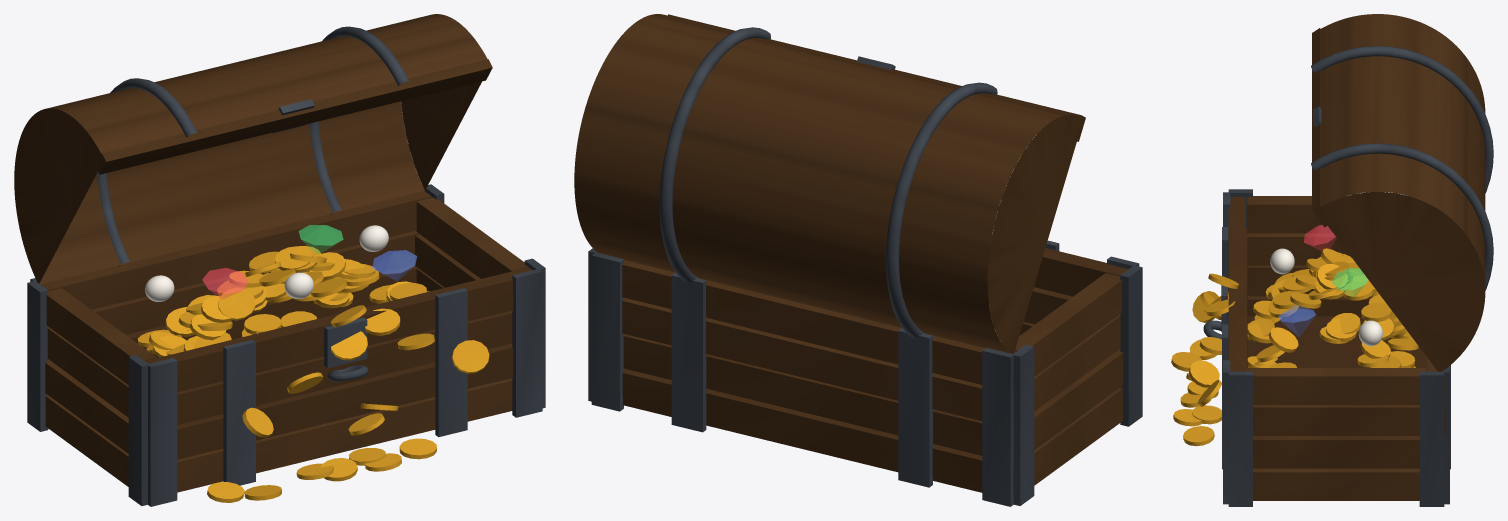
The model's file is treasure-chest.glb.
3 renders of one model, left to right at view 1: azimuth 30°, elevation 25°; view 2: azimuth 150°, elevation 25°; view 3: azimuth 270°, elevation 25°, orthographic. The views are drawn at different scales.
Parts seen in each view (by area): view 1: chest-lid, chest-body, chest-iron, coin-pile, chest-lid-iron, pearls, gem-ruby, gem-sapphire, gem-emerald; view 2: chest-lid, chest-body, chest-iron, chest-lid-iron; view 3: chest-lid, chest-body, coin-pile, chest-iron, chest-lid-iron, pearls, gem-emerald, gem-sapphire, gem-ruby.
Boxes of the visible parts, box(x1,y1,x2,y2) form: chest-lid: box(14, 14, 492, 284); chest-body: box(41, 191, 531, 492); chest-iron: box(27, 184, 545, 506); coin-pile: box(137, 246, 489, 502); chest-lid-iron: box(97, 26, 409, 265); pearls: box(145, 225, 388, 301); gem-ruby: box(202, 268, 248, 299); gem-sapphire: box(372, 250, 416, 280); gem-emerald: box(298, 225, 343, 253); chest-lid: box(574, 14, 1085, 353); chest-body: box(622, 247, 1128, 493); chest-iron: box(588, 240, 1142, 506); chest-lid-iron: box(659, 27, 997, 338); chest-lid: box(1312, 14, 1485, 371); chest-body: box(1228, 196, 1445, 500); coin-pile: box(1171, 248, 1418, 446); chest-iron: box(1203, 189, 1450, 506); chest-lid-iron: box(1311, 46, 1493, 290); pearls: box(1270, 248, 1382, 346); gem-emerald: box(1332, 268, 1367, 296); gem-sapphire: box(1278, 305, 1315, 336); gem-ruby: box(1304, 225, 1336, 250).
Bounding box in the file's own units: 150 × 120 × 110.
